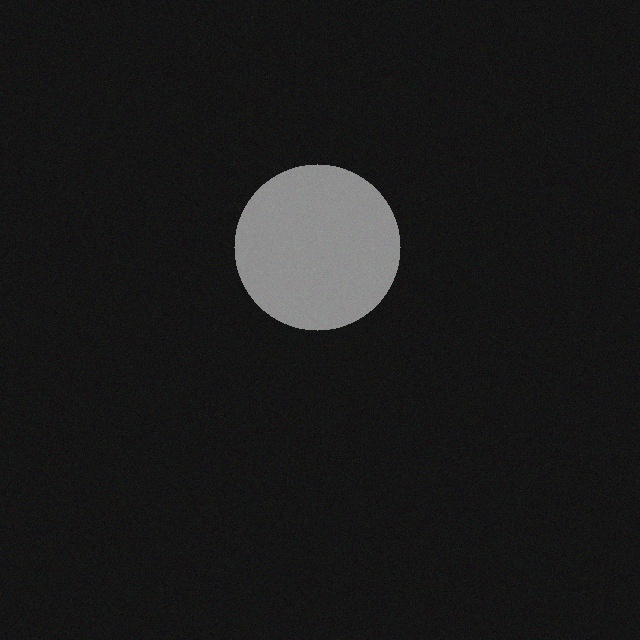circle: (228, 166, 394, 332)
